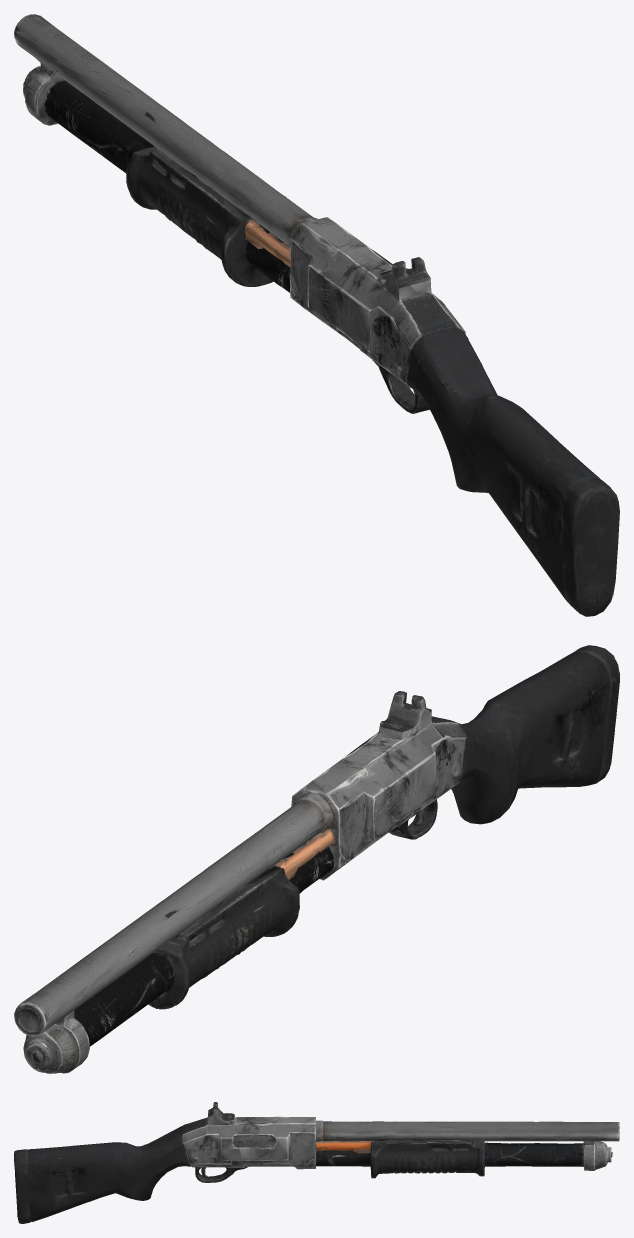
File: shotgun.glb
3 views of the same model, one above another, from view 1: azimuth 30°, elevation 25°; view 2: azimuth 150°, elevation 25°; view 3: azimuth 270°, elevation 25° (orthographic). The views are drawn at different scales.
Parts seen in each view (by area): view 1: ShotgunBody; view 2: ShotgunBody; view 3: ShotgunBody.
Boxes of the visible parts, box(x1,y1,x2,y2) form: ShotgunBody: box(14, 14, 619, 616); ShotgunBody: box(14, 645, 619, 1073); ShotgunBody: box(14, 1102, 619, 1223).
Bounding box in the file's own units: 0.0793 × 0.2221 × 1.03.
Materials: 1 (1 with a texture image).
